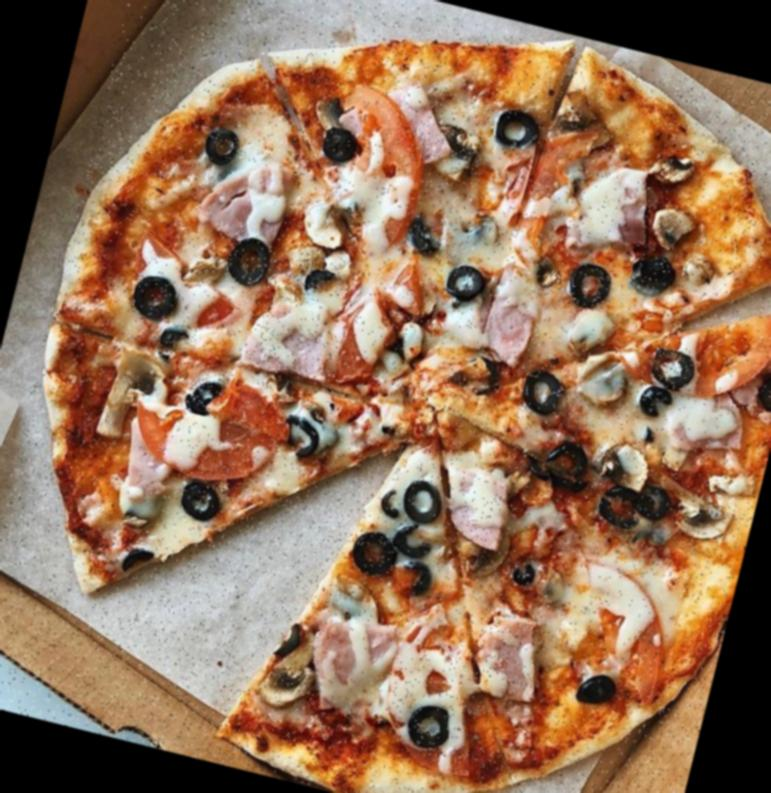Ham: (304, 615, 400, 721), (560, 156, 661, 252), (240, 292, 345, 382), (200, 156, 292, 242), (467, 614, 552, 702), (476, 267, 544, 375), (441, 469, 517, 556), (662, 392, 750, 461), (391, 82, 465, 162), (112, 445, 174, 526)
Mushroom: (89, 348, 178, 450), (666, 494, 739, 550), (431, 123, 485, 185), (296, 203, 360, 254), (256, 660, 318, 711), (568, 307, 624, 362), (596, 440, 654, 492), (578, 356, 632, 408), (648, 202, 700, 254), (650, 152, 703, 192), (312, 93, 354, 129), (680, 258, 720, 294), (538, 566, 572, 604)
Olives: (380, 476, 454, 598), (594, 475, 675, 542), (541, 436, 600, 497), (348, 528, 400, 580), (223, 232, 272, 287), (406, 702, 456, 755), (518, 366, 568, 418), (130, 273, 181, 322), (183, 368, 231, 420), (564, 260, 614, 309), (152, 320, 199, 372), (627, 252, 677, 300), (276, 414, 323, 463), (649, 348, 699, 393), (493, 105, 540, 151), (178, 477, 226, 522), (294, 266, 342, 306), (404, 213, 447, 257), (320, 126, 364, 168), (575, 669, 620, 710), (445, 260, 488, 302), (270, 620, 307, 664), (201, 125, 240, 165), (635, 384, 674, 424), (118, 546, 154, 581), (510, 560, 538, 588), (757, 365, 771, 413)
Pizza: (0, 0, 771, 793)
Tomatoes: (370, 640, 499, 782), (558, 557, 684, 688), (130, 401, 278, 480), (340, 148, 424, 255), (691, 299, 771, 410), (346, 84, 404, 140)
